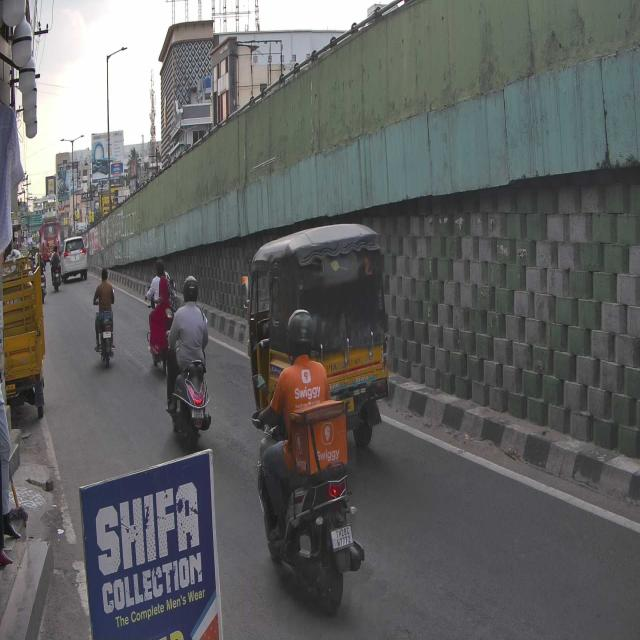single_rider: (250, 304, 367, 616), (165, 272, 211, 449)
